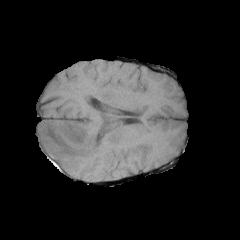glioma: (39, 120, 143, 169)
